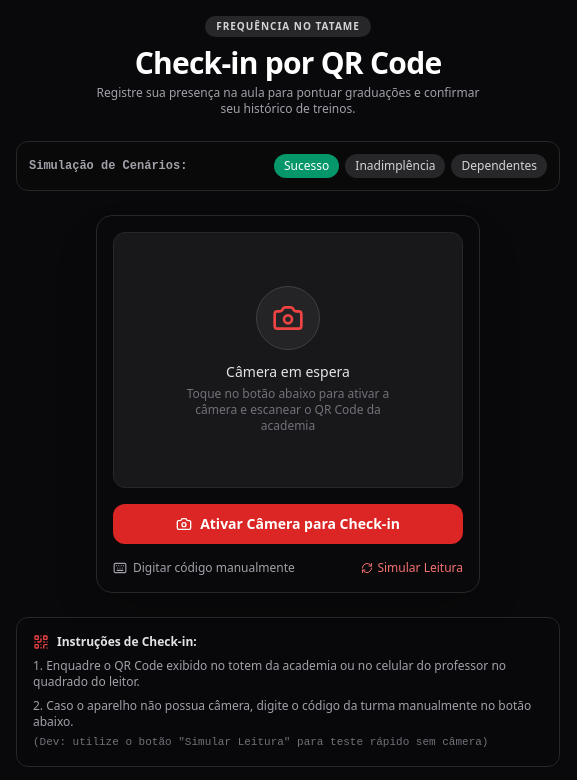
Tela de Check-in por QR Code › deve exibir lista de dependentes quando houver múltiplos alunos no login
Note: Clica no cenário 'Dependentes'
Click the button "Dependentes" at coordinates (499, 166), box [452,154,547,178]
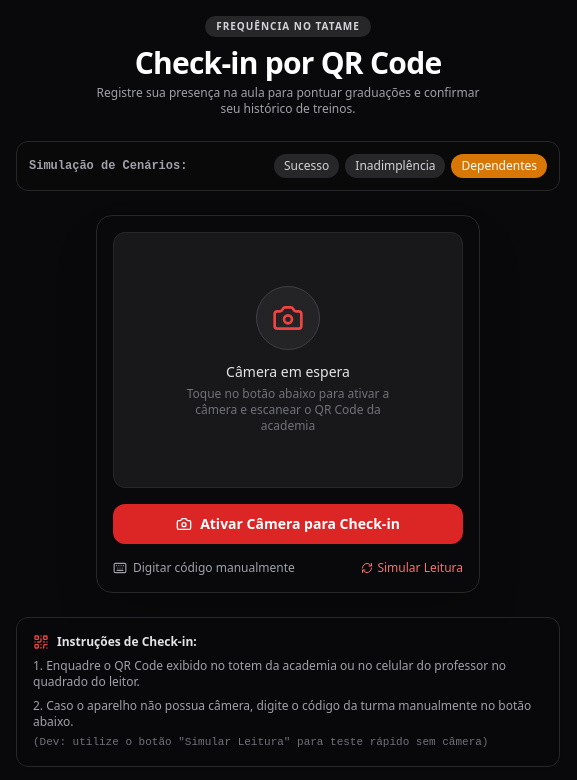
Note: Simula leitura
Click the button "Simular Leitura" at coordinates (412, 568), box [361,560,463,576]
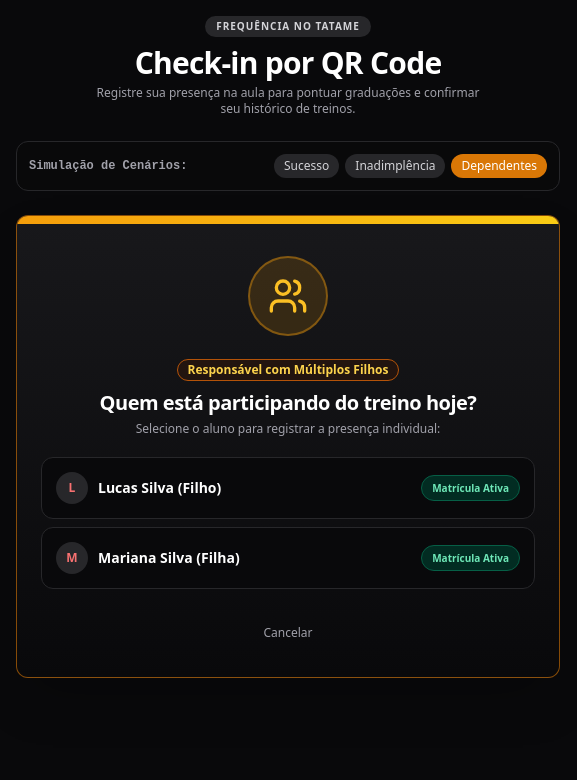
Check: the heading "Quem está participando do treino hoje?" is shown, box [100,389,476,416]
Check: the text "Lucas Silva (Filho)" is shown
Check: the text "Mariana Silva (Filha)" is shown, box [98,548,240,568]
Note: Seleciona um dependente
Click the text "Lucas Silva (Filho)" at coordinates (160, 488), box [98,478,221,498]
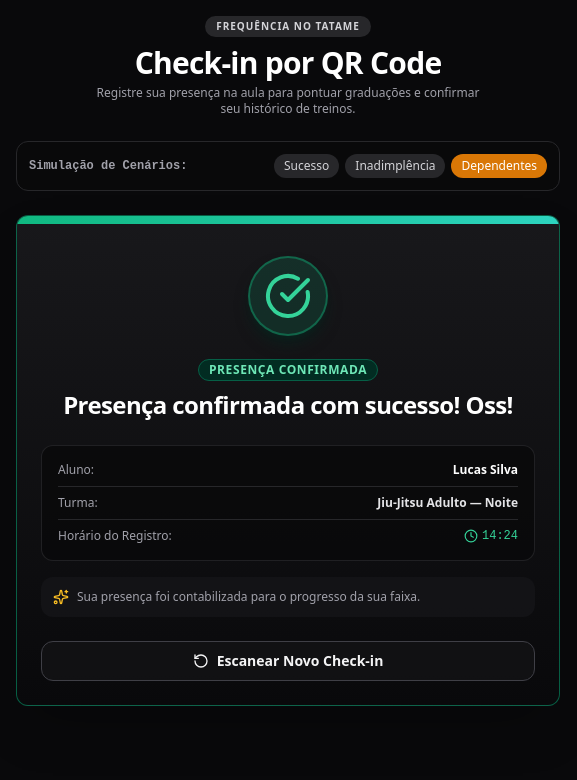
Check: the text "Presença Confirmada" is shown, box [198,359,378,381]
